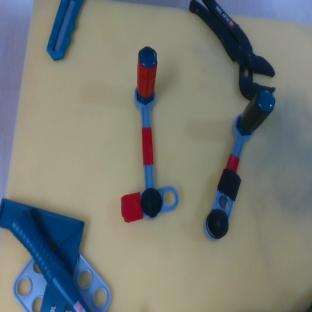non_pass: (193, 83, 278, 243)
pass: (121, 46, 179, 222)
